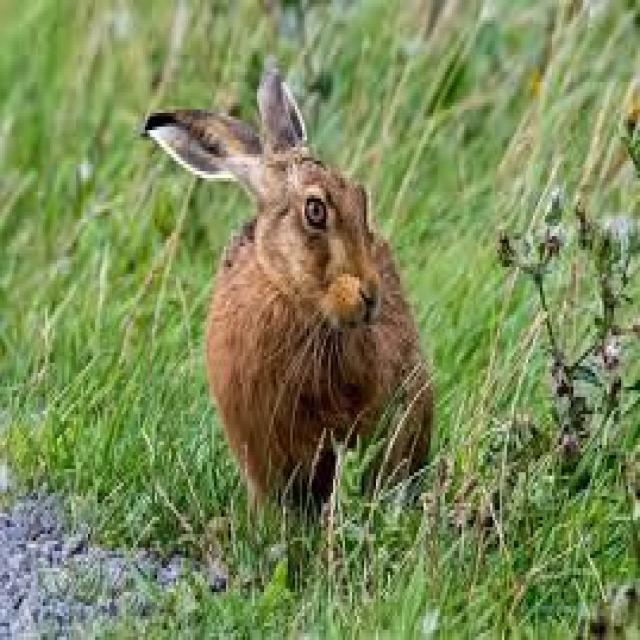Hare: (142, 61, 440, 545)
